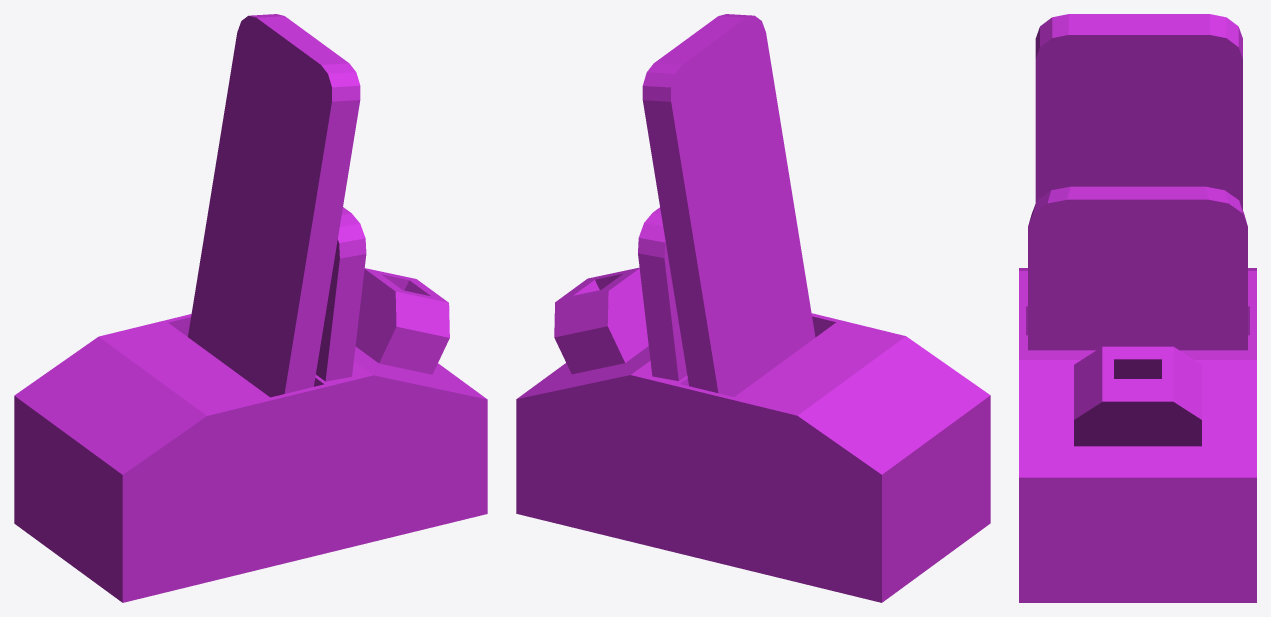
File: PDATogether.fbx
3 views of the same model, side by side, from view 1: azimuth 30°, elevation 25°; view 2: azimuth 150°, elevation 25°; view 3: azimuth 270°, elevation 25° (orthographic). The views are drawn at different scales.
Parts seen in each view (by area): view 1: PDA_Together; view 2: PDA_Together; view 3: PDA_Together.
Part boxes in pixels (x1,y1,x2,y2): PDA_Together: [14, 14, 487, 602]; PDA_Together: [516, 14, 990, 602]; PDA_Together: [1019, 14, 1256, 602].
Size of the model in its own units: 37.58 by 46 by 19.35.
